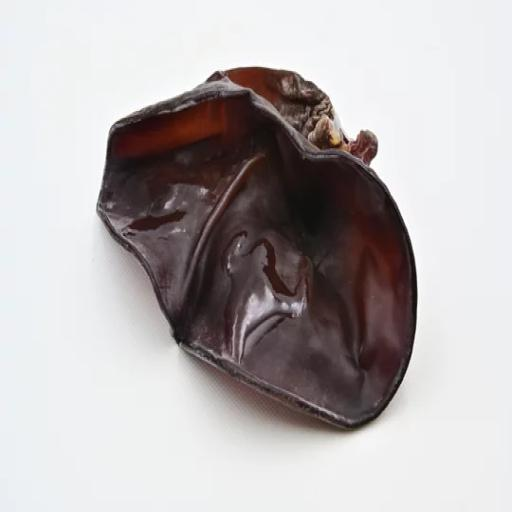Wood Ear Mushroom: (88, 57, 444, 443)
